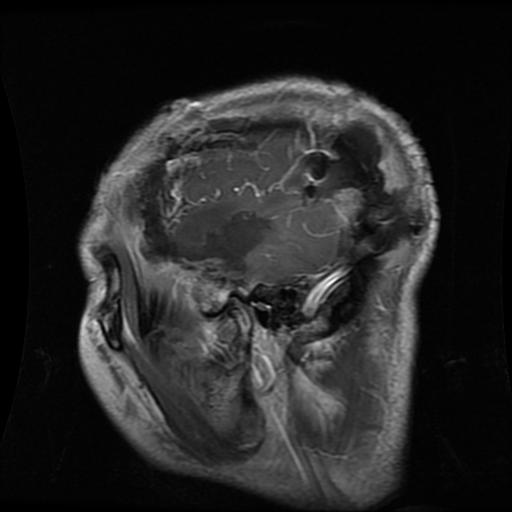Gliomia_tumour: (305, 123, 406, 253)
